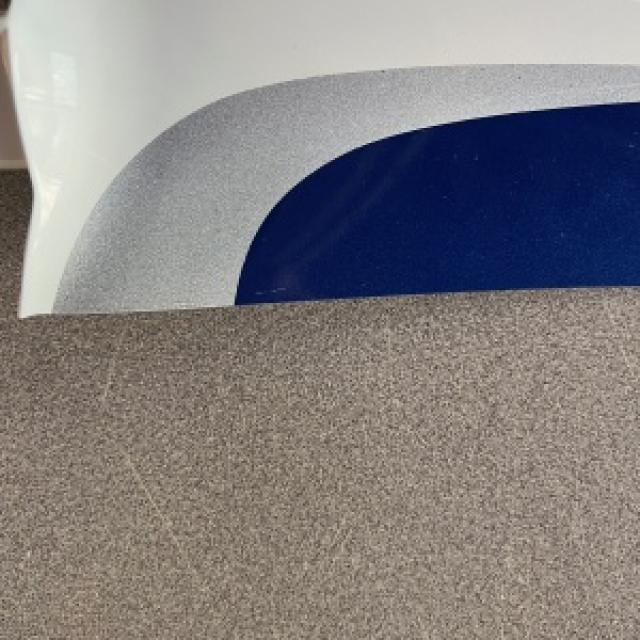healthy: (11, 0, 638, 314), (122, 64, 452, 211)
